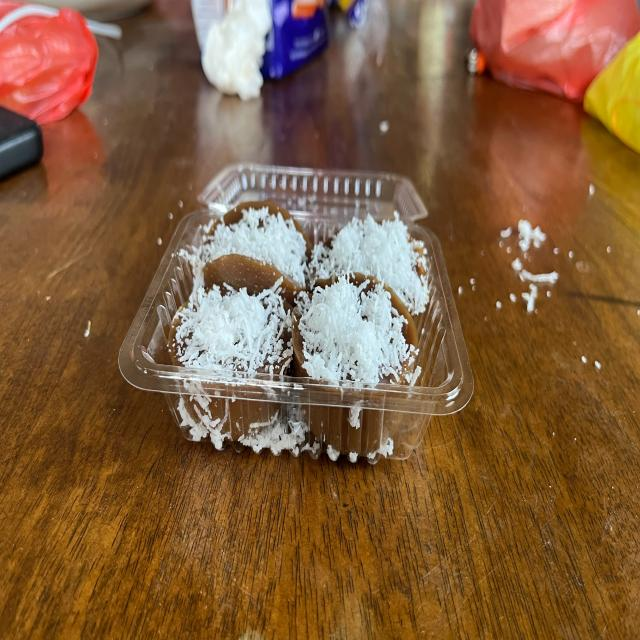Kuih lompang: (169, 209, 306, 453), (292, 273, 419, 453), (310, 211, 429, 316), (202, 204, 306, 313)
